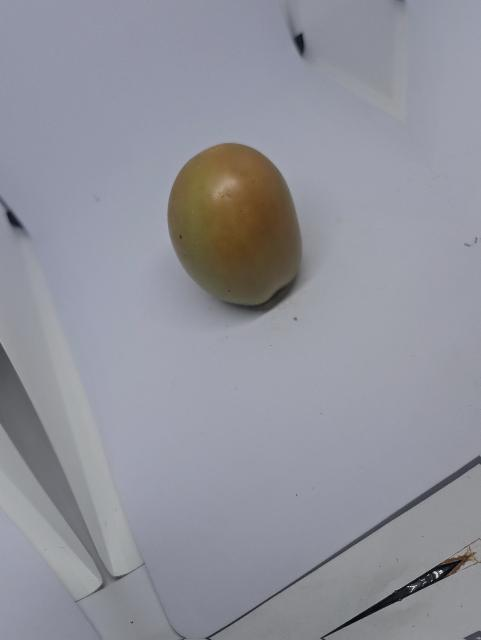breaker: (164, 142, 306, 310)
